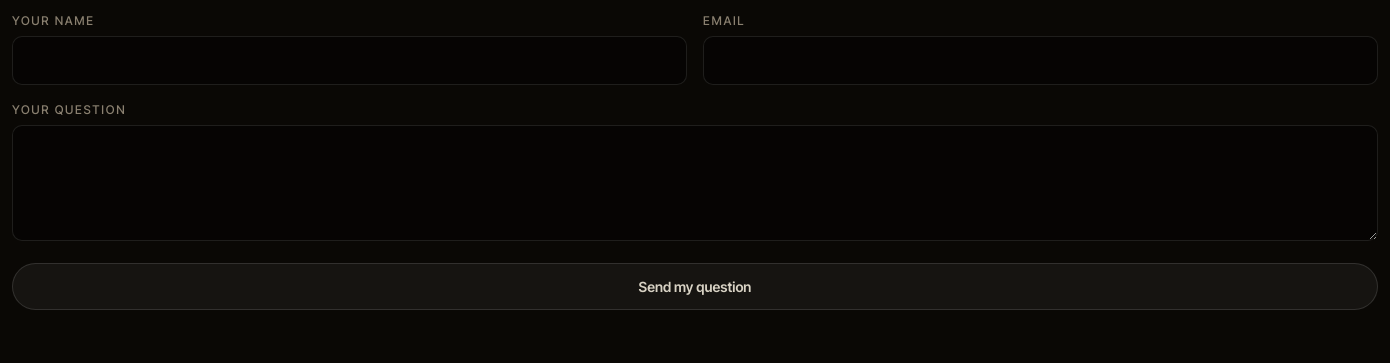
Scenario: QuestionForm › says what is missing without sending
Click the button "Send my question": (695, 286) [12,262,1378,310]
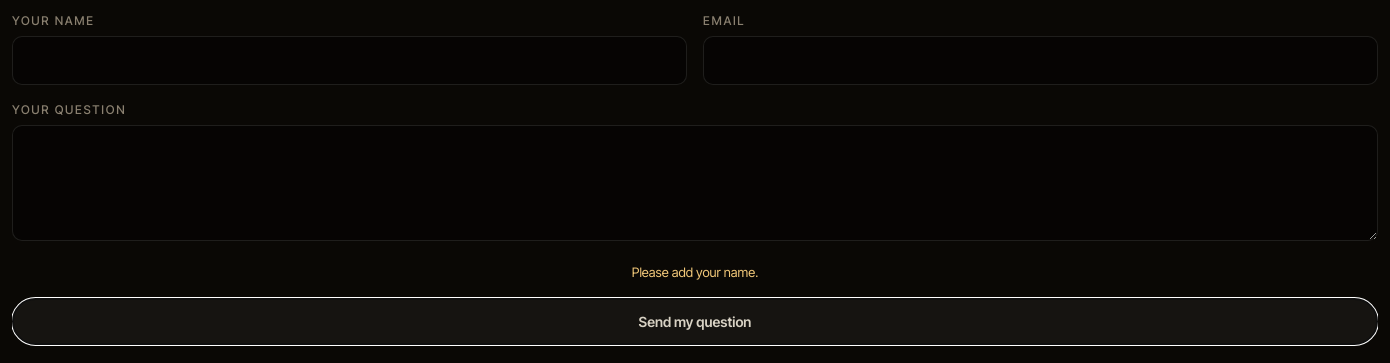
Result: the message reads "Please add your name." at [632,264,758,280]
